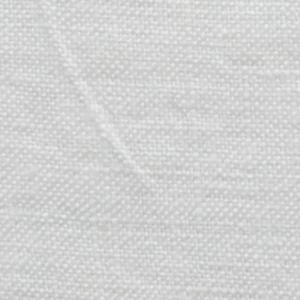Wrinkle: (22, 1, 176, 207)
